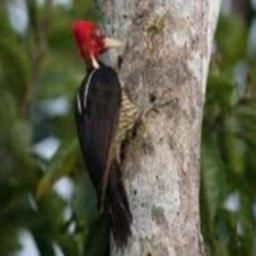Woodpecker: (71, 19, 174, 248)
